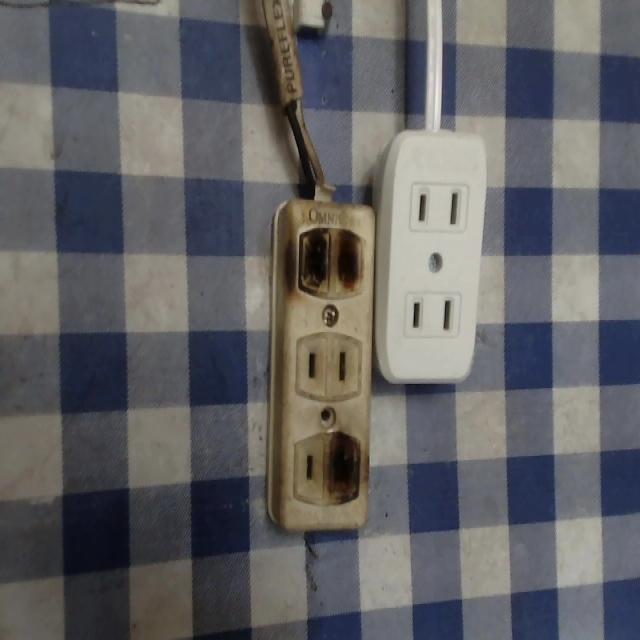-: (290, 225, 366, 304), (323, 428, 366, 513)
